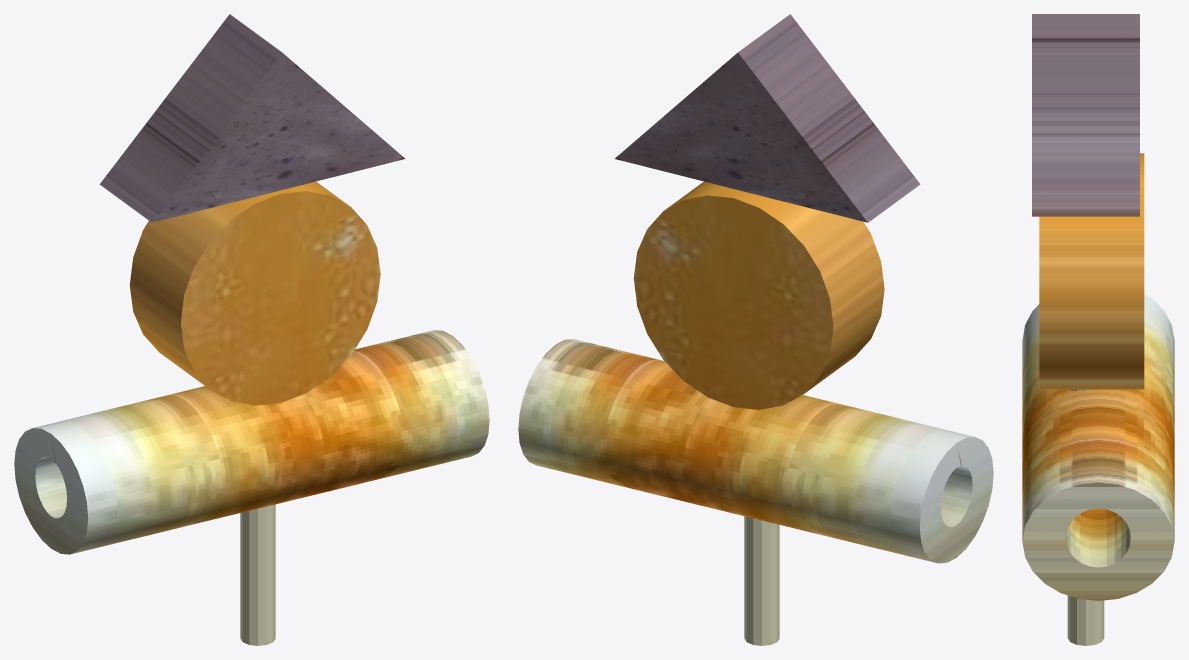
The model's file is Oden.fbx.
The picture shows the model from 3 angles, left to right: view 1: azimuth 30°, elevation 25°; view 2: azimuth 150°, elevation 25°; view 3: azimuth 270°, elevation 25°; orthographic projection. The views are drawn at different scales.
Parts seen in each view (by area): view 1: pCylinder6; view 2: pCylinder6; view 3: pCylinder6.
Boxes of the visible parts, <box> form: pCylinder6: <box>14,14,489,645</box>; pCylinder6: <box>518,14,993,645</box>; pCylinder6: <box>1022,14,1174,645</box>.
Bounding box in the file's own units: 5.13 × 7.4 × 1.64.
2 materials, 1 textured.
